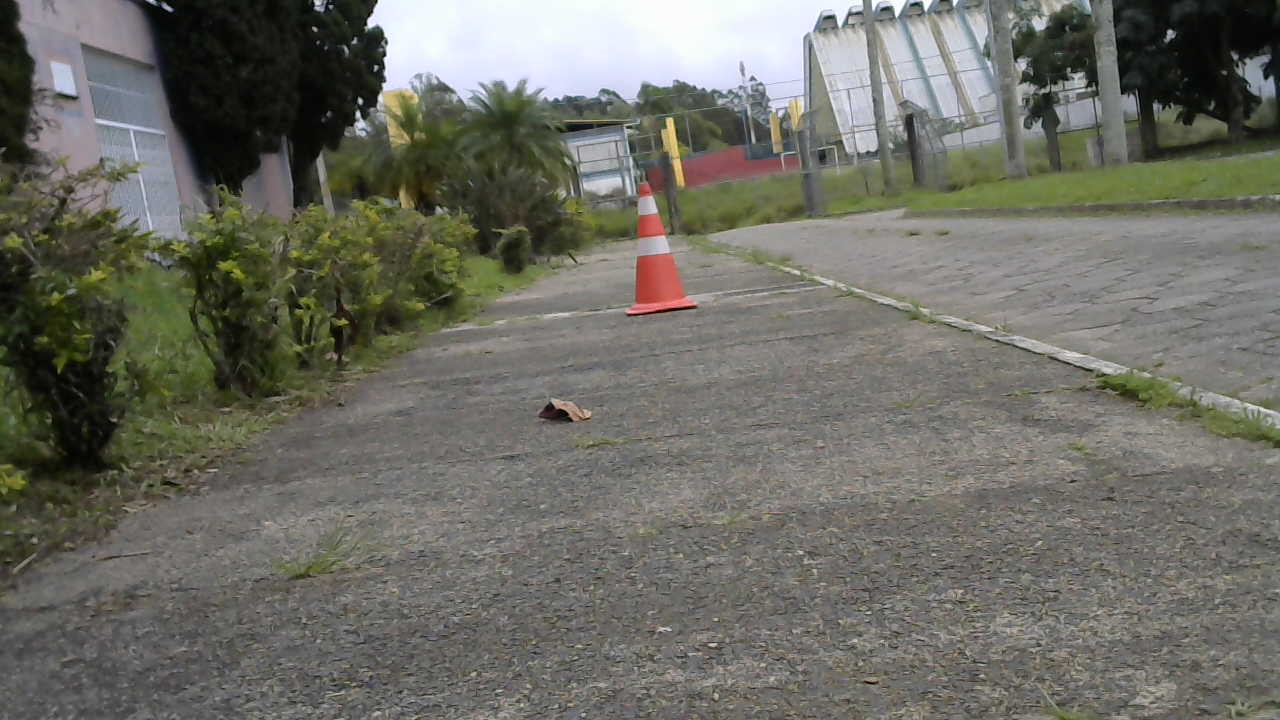cone: (624, 182, 701, 318)
